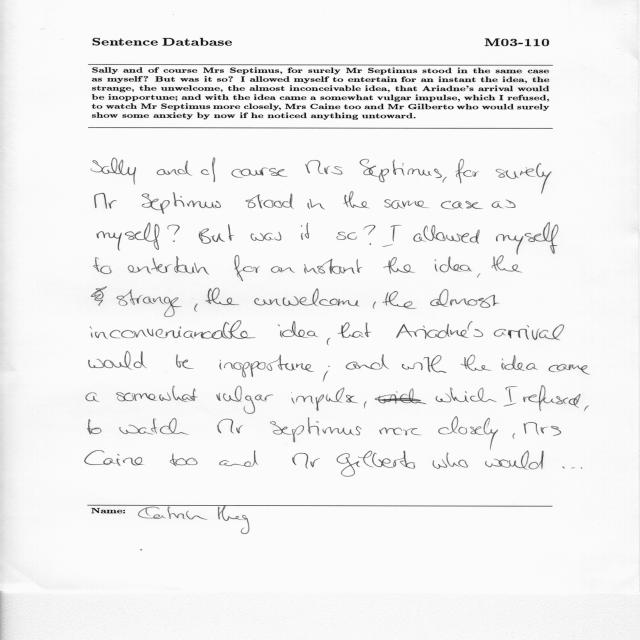word: (90, 321, 255, 339), (91, 287, 182, 317), (270, 418, 362, 443), (219, 355, 314, 378), (496, 222, 558, 255), (438, 416, 498, 450), (337, 451, 415, 477), (396, 321, 506, 339), (375, 388, 496, 404), (254, 289, 360, 307), (360, 159, 442, 182), (142, 192, 221, 214), (496, 163, 552, 194), (97, 223, 159, 251), (292, 387, 359, 411), (216, 386, 273, 414), (128, 256, 209, 275), (523, 385, 581, 411), (116, 386, 198, 402), (430, 289, 499, 308), (413, 225, 480, 244), (91, 157, 136, 185), (485, 450, 544, 470), (120, 418, 189, 434), (89, 351, 147, 370), (85, 450, 145, 466), (508, 325, 564, 341), (304, 259, 363, 274), (402, 355, 446, 373), (246, 193, 294, 209), (199, 224, 234, 244), (278, 321, 319, 338), (346, 354, 389, 370), (234, 255, 260, 281), (219, 450, 258, 467), (383, 291, 417, 309), (432, 452, 468, 469), (434, 257, 472, 273), (501, 355, 538, 371), (455, 159, 479, 183), (231, 168, 288, 178), (206, 288, 239, 305), (157, 160, 192, 176), (491, 255, 522, 273), (383, 257, 415, 274), (338, 322, 371, 338), (461, 354, 492, 371), (305, 160, 342, 174), (524, 422, 561, 436), (548, 364, 590, 375), (344, 192, 370, 209), (384, 199, 428, 209), (292, 453, 320, 468), (383, 225, 402, 247), (217, 419, 243, 434), (170, 454, 198, 467), (95, 193, 117, 209), (379, 428, 422, 436), (201, 158, 215, 182), (441, 201, 483, 209), (94, 257, 112, 274), (251, 232, 282, 241), (504, 386, 517, 407), (176, 354, 194, 369), (364, 225, 376, 245), (491, 200, 516, 209), (167, 225, 180, 242), (88, 420, 102, 435), (307, 199, 325, 210), (271, 266, 295, 273), (337, 232, 357, 240), (301, 223, 309, 240), (86, 392, 99, 402), (323, 366, 330, 382), (563, 467, 583, 469), (194, 303, 198, 312), (442, 177, 447, 183), (327, 338, 331, 345), (584, 406, 589, 411), (373, 301, 376, 309), (364, 402, 367, 409), (477, 273, 481, 278), (513, 433, 516, 439)
